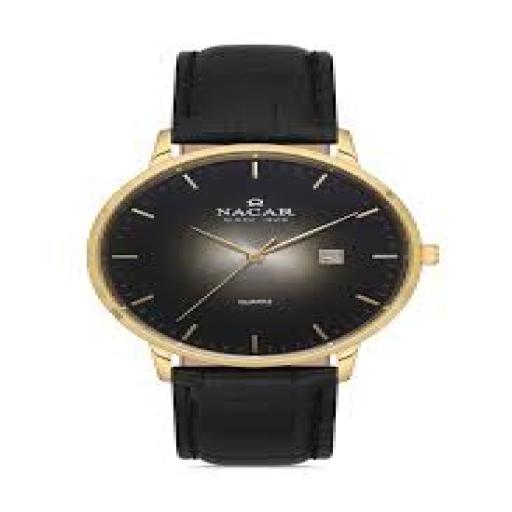KolSaati: (66, 22, 446, 471)
